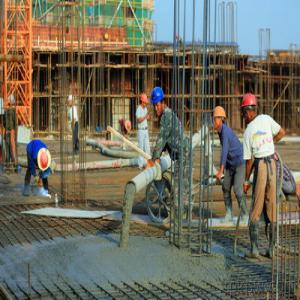blue: (151, 86, 166, 117)
red: (241, 94, 258, 122), (39, 149, 50, 170), (141, 94, 149, 108), (7, 95, 15, 109)
white: (67, 95, 75, 107)
yellow: (214, 107, 227, 131)
